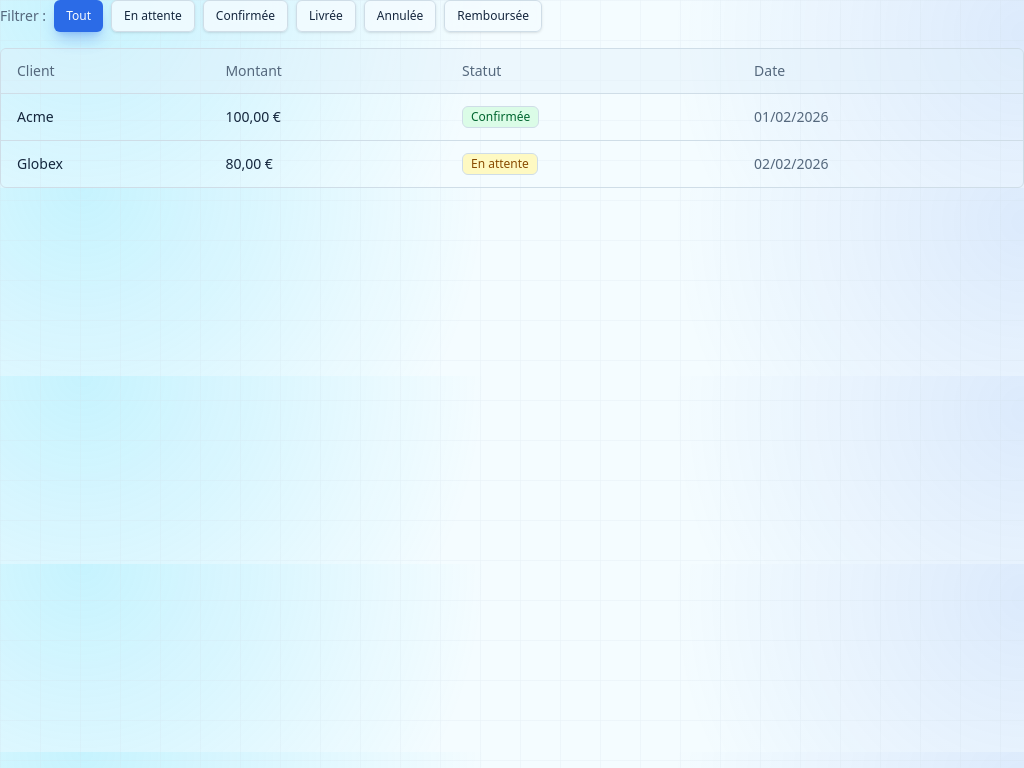
it: ProductSalesTable › filters by status
The image size is (1024, 768).
Click the button "Confirmée" at (246, 16), box [203,0,288,32]
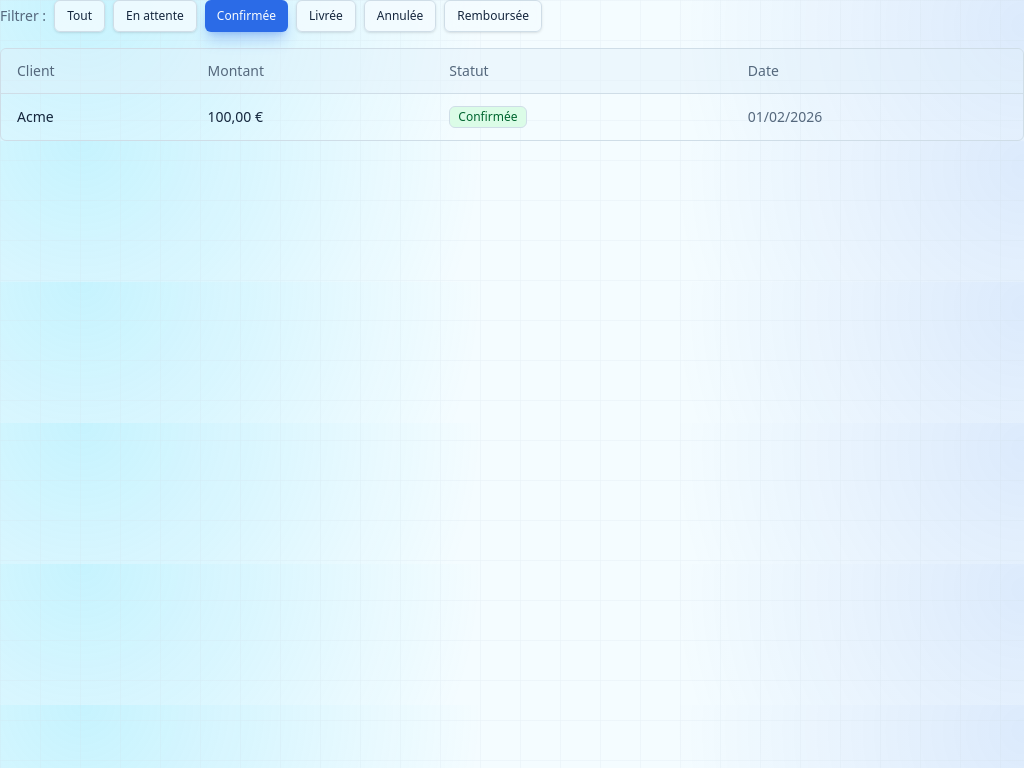
Check: the text "Acme" is shown, box [1,94,192,140]
Check: the text "Globex" is gone
